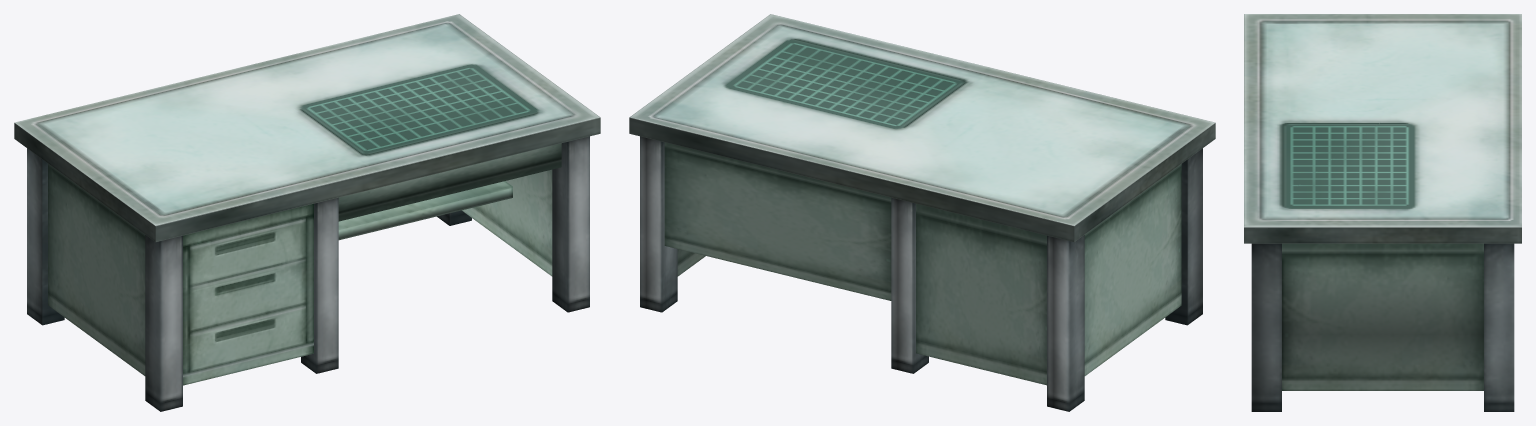
The model's file is a_SCdesk02.glb.
3 renders of one model, left to right at view 1: azimuth 30°, elevation 25°; view 2: azimuth 150°, elevation 25°; view 3: azimuth 270°, elevation 25°, orthographic.
Visible parts, largest first — view 1: a_SCdesk02; view 2: a_SCdesk02; view 3: a_SCdesk02.
Boxes of the visible parts, x1=… form: a_SCdesk02: x1=14, y1=14, x2=600, y2=411; a_SCdesk02: x1=629, y1=14, x2=1215, y2=411; a_SCdesk02: x1=1244, y1=14, x2=1521, y2=411.
Size of the model in its own units: 2 by 0.82 by 1.1.
Materials: 1 (1 with a texture image).
